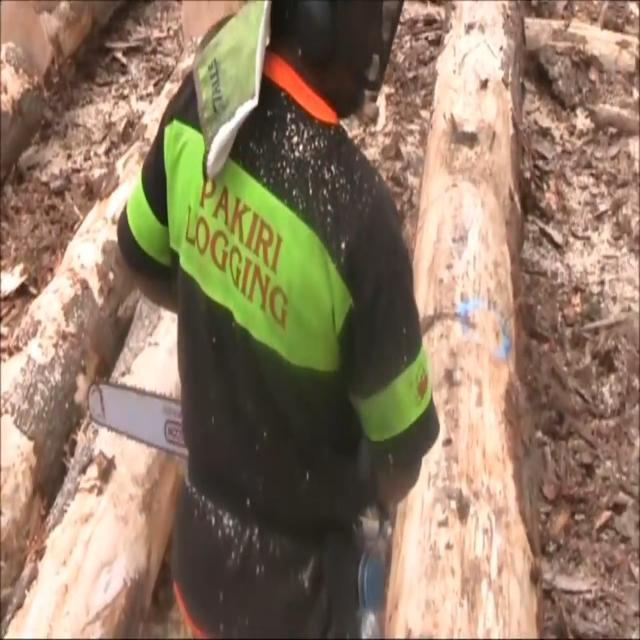Chainsaw: (75, 364, 200, 482)
